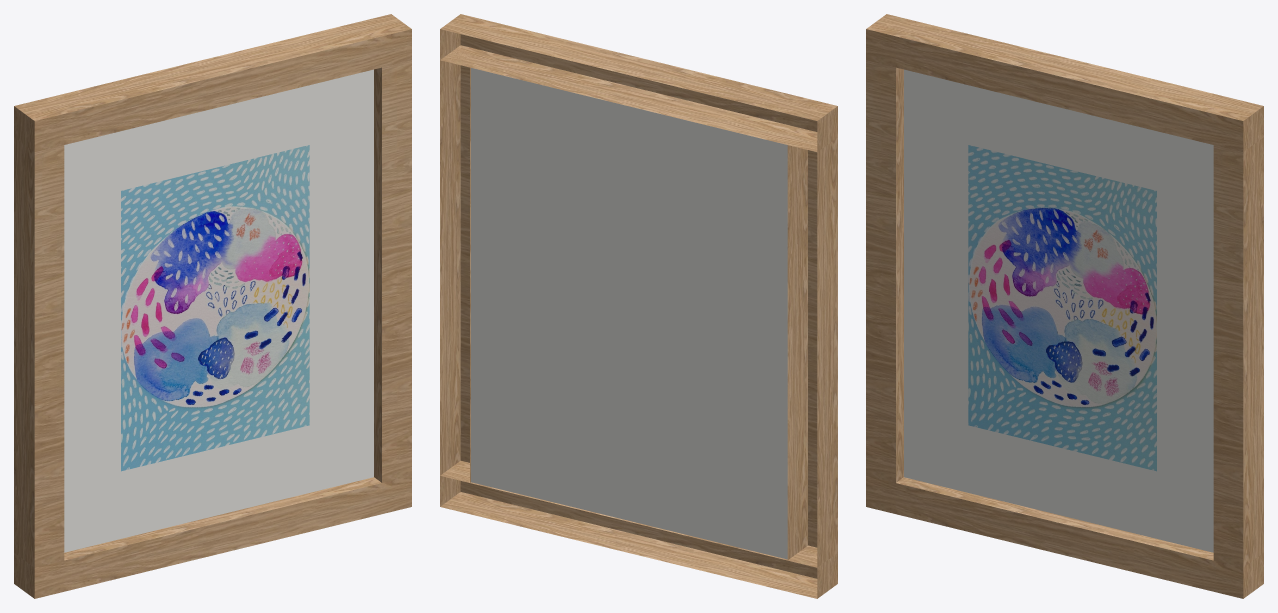
File: zodiac-aquarius.glb
The picture shows the model from 3 angles, left to right: view 1: azimuth 30°, elevation 25°; view 2: azimuth 150°, elevation 25°; view 3: azimuth 330°, elevation 25°; orthographic projection.
Parts seen in each view (by area): view 1: framed-art; view 2: framed-art; view 3: framed-art.
Boxes of the visible parts, x1,y1,x2,y2 form: framed-art: [14, 14, 411, 598]; framed-art: [440, 14, 837, 598]; framed-art: [866, 14, 1263, 598].
Size of the model in its own units: 0.2413 by 0.2921 by 0.0229.
3 materials, 3 textured.
